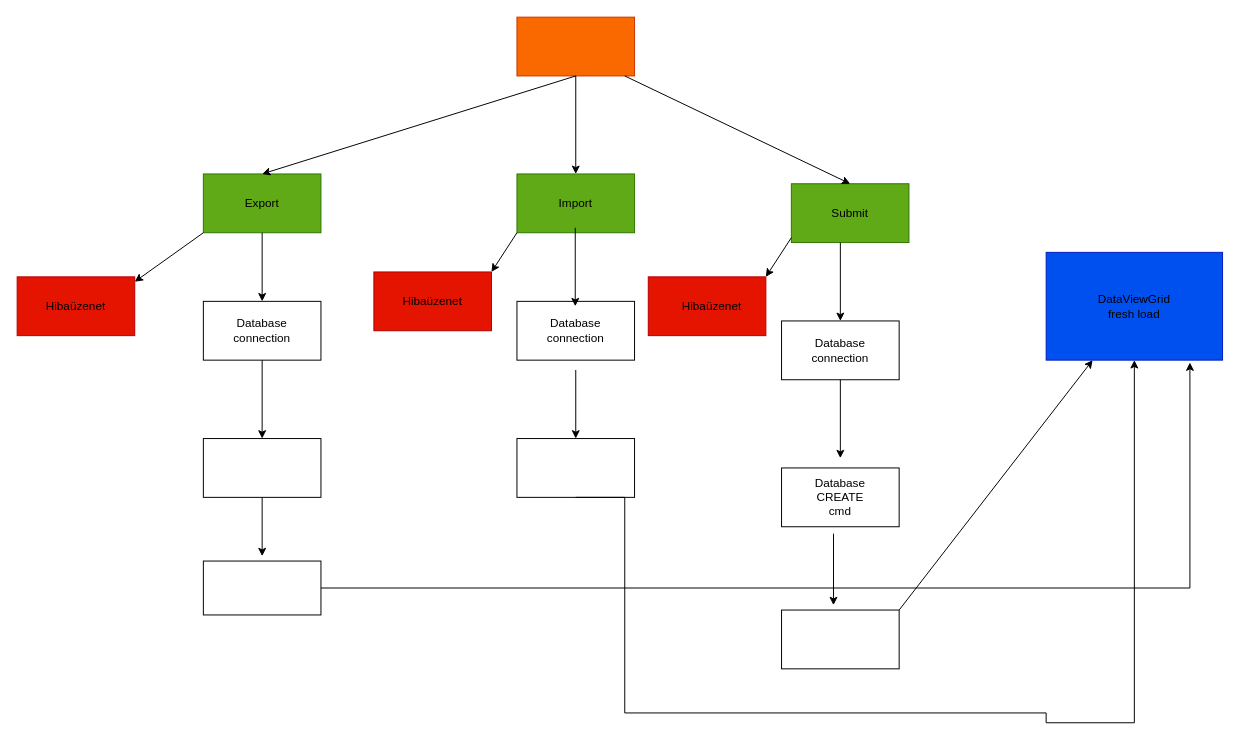
Image size: 1240x748. Some labels were removed from this diagram. The shapes that lost their labels are listed below. From the top down, each one's centre as x and y in pixels, then its label:
At (575,46): "Program futása".
At (261,467): "Database read".
At (575,467): "Database INSERT CSV".
At (261,587): "Upload to CSV".
At (840,639): "Database INSERT cmd".
